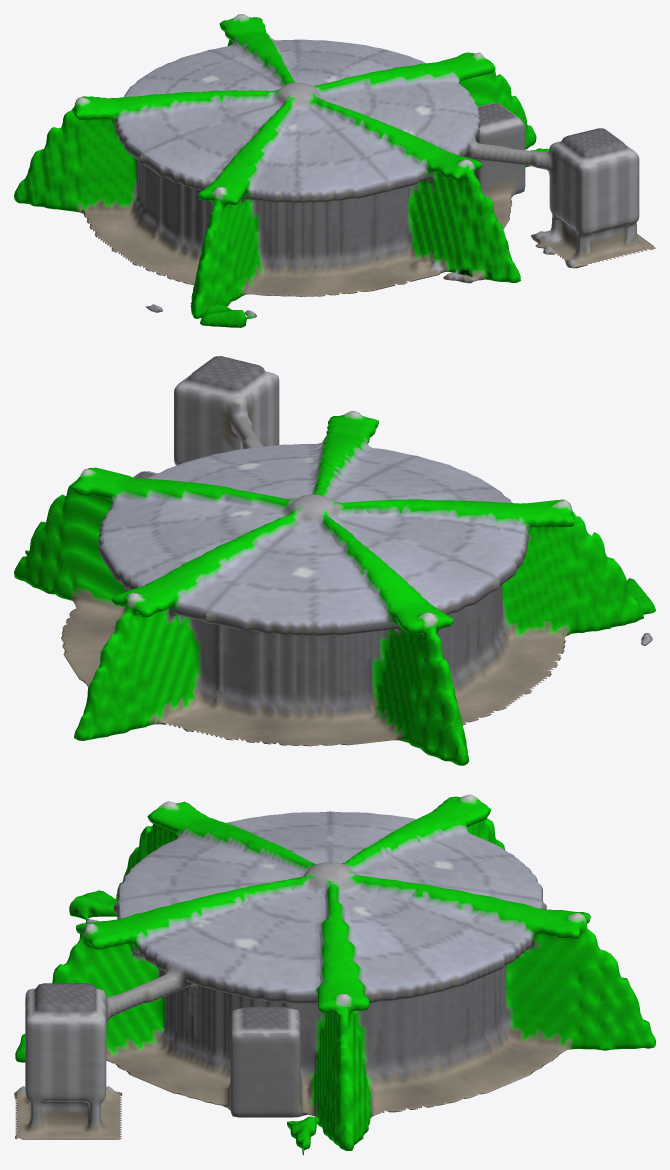
Rendered from silo.glb.
3 renders of one model, top to bottom at view 1: azimuth 30°, elevation 25°; view 2: azimuth 150°, elevation 25°; view 3: azimuth 270°, elevation 25°, orthographic. The views are drawn at different scales.
Parts seen in each view (by area): view 1: silo, silo-damaged; view 2: silo, silo-damaged; view 3: silo, silo-damaged.
Boxes of the visible parts, left/top/right/bottom form: silo: left=14, top=14, right=655, bottom=318; silo-damaged: left=145, top=91, right=591, bottom=327; silo: left=14, top=356, right=643, bottom=765; silo-damaged: left=25, top=361, right=655, bottom=645; silo: left=15, top=794, right=655, bottom=1150; silo-damaged: left=14, top=803, right=378, bottom=1155.
Bounding box in the file's own units: 1.88 × 0.4642 × 1.86.
